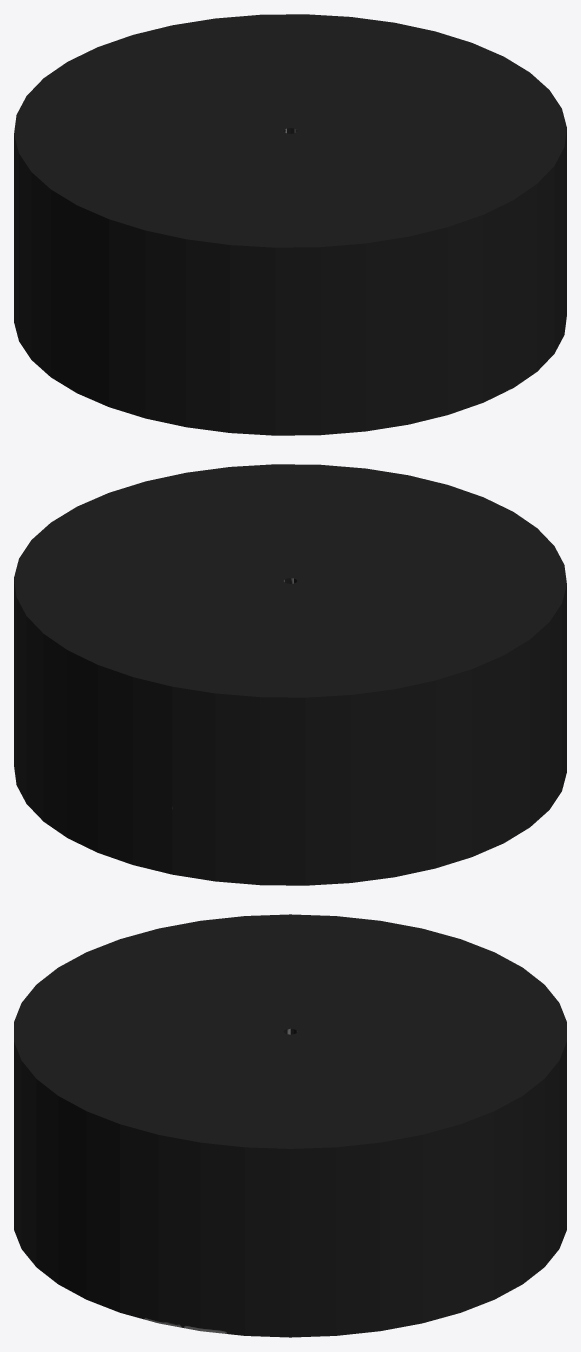
Rendered from right_front_wheel.dae.
3 views of the same model, one above another, from view 1: azimuth 30°, elevation 25°; view 2: azimuth 150°, elevation 25°; view 3: azimuth 270°, elevation 25° (orthographic).
Visible parts, largest first — view 1: right_front_wheel; view 2: right_front_wheel; view 3: right_front_wheel.
Part boxes in pixels (bbox=[...]): right_front_wheel: bbox=[14, 14, 566, 435]; right_front_wheel: bbox=[14, 464, 566, 885]; right_front_wheel: bbox=[14, 914, 566, 1337].
Size of the model in its own units: 0.2032 by 0.2025 by 0.0762.
Materials: 1 (1 with a texture image).
